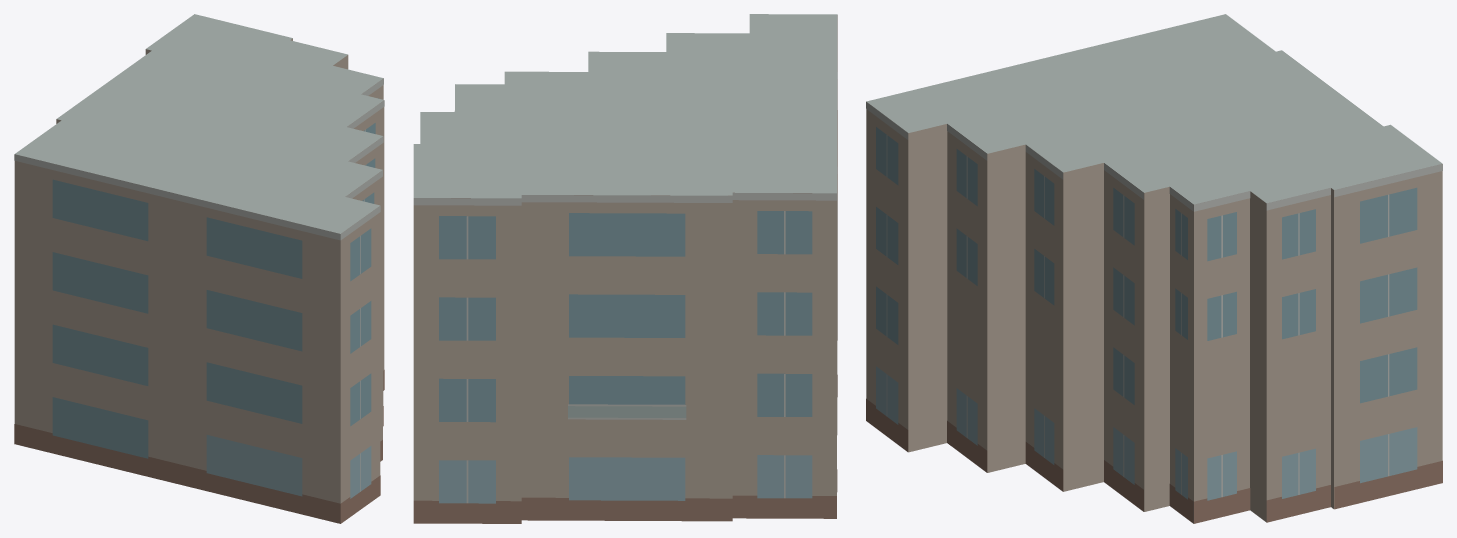
The model's file is survey-upis-32656773.glb.
3 renders of one model, left to right at view 1: azimuth 30°, elevation 25°; view 2: azimuth 150°, elevation 25°; view 3: azimuth 270°, elevation 25°, orthographic. The views are drawn at different scales.
Visible parts, largest first — view 1: survey-upis-32656773.tmp; view 2: survey-upis-32656773.tmp; view 3: survey-upis-32656773.tmp.
Part boxes in pixels (left/top/right/bottom): survey-upis-32656773.tmp: left=14, top=14, right=384, bottom=523; survey-upis-32656773.tmp: left=413, top=14, right=837, bottom=523; survey-upis-32656773.tmp: left=866, top=14, right=1442, bottom=523.
Size of the model in its own units: 13.84 by 10.8 by 17.69.
